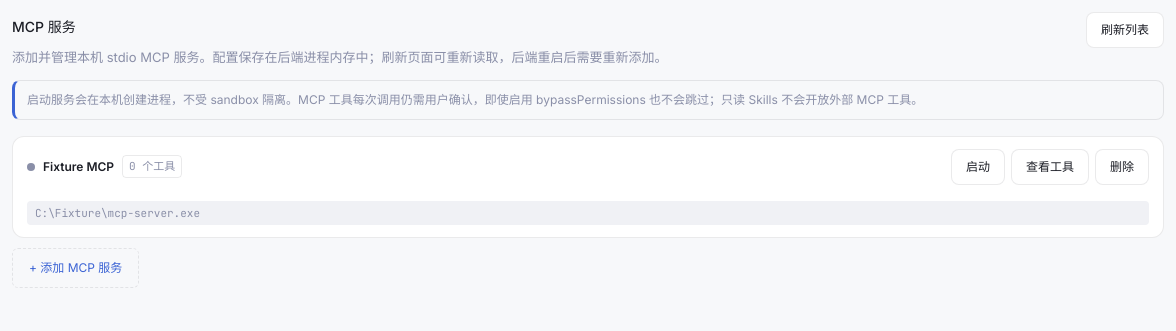
Test: MCPManager › keeps a failed start in the stopped state and shows the error beside that server
The image size is (1176, 331).
Click the button "启动" at point(978, 166), box [951, 148, 1005, 184]
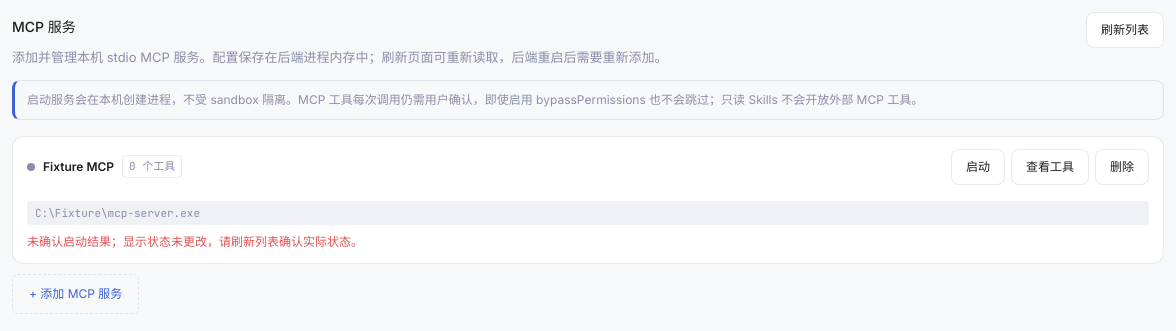
Result: the text "未确认启动结果；显示状态未更改，请刷新列表确认实际状态。" is shown at [27, 234, 363, 249]
